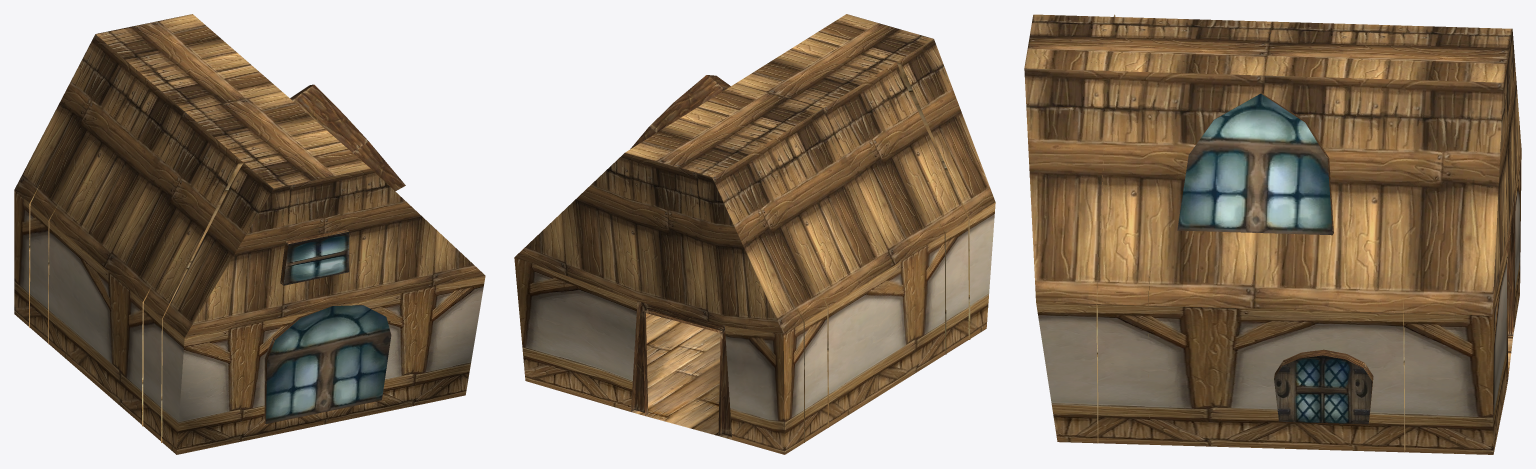
The model's file is stormwind_246.fbx.
3 renders of one model, left to right at view 1: azimuth 30°, elevation 25°; view 2: azimuth 150°, elevation 25°; view 3: azimuth 270°, elevation 25°, orthographic. The views are drawn at different scales.
Parts seen in each view (by area): view 1: stormwind_246_55, stormwind_246_48, stormwind_246_192, stormwind_246_191; view 2: stormwind_246_55, stormwind_246_48, stormwind_246_51, stormwind_246_191; view 3: stormwind_246_55, stormwind_246_48, stormwind_246_192, stormwind_246_191.
Part boxes in pixels (x1=…): stormwind_246_55: x1=14, y1=14, x2=484, y2=337; stormwind_246_48: x1=14, y1=190, x2=485, y2=454; stormwind_246_192: x1=266, y1=232, x2=391, y2=423; stormwind_246_191: x1=29, y1=84, x2=405, y2=442; stormwind_246_55: x1=514, y1=14, x2=995, y2=334; stormwind_246_48: x1=514, y1=202, x2=995, y2=454; stormwind_246_51: x1=631, y1=313, x2=732, y2=439; stormwind_246_191: x1=630, y1=34, x2=970, y2=442; stormwind_246_55: x1=1024, y1=14, x2=1521, y2=315; stormwind_246_48: x1=1036, y1=150, x2=1521, y2=454; stormwind_246_192: x1=1177, y1=93, x2=1372, y2=424; stormwind_246_191: x1=1091, y1=14, x2=1515, y2=453.
Bounding box in the file's own units: 11.17 × 9.01 × 13.04.
